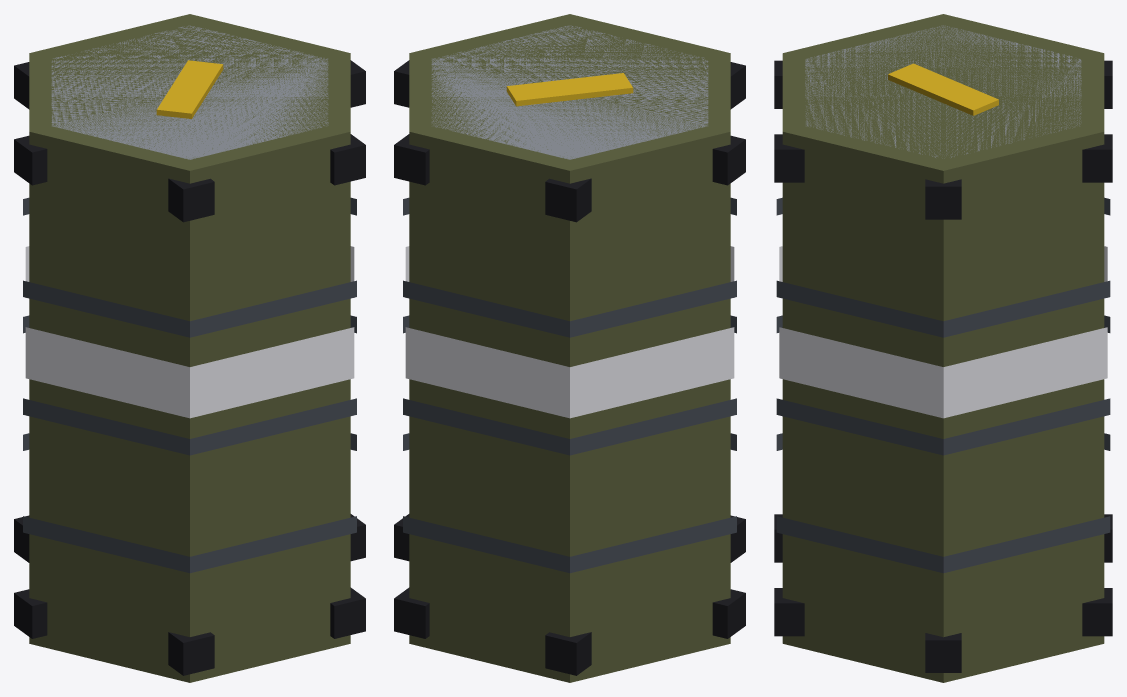
File: ship_cargo_pod.obj
3 renders of one model, left to right at view 1: azimuth 30°, elevation 25°; view 2: azimuth 150°, elevation 25°; view 3: azimuth 270°, elevation 25°, orthographic.
Visible parts, largest first — view 1: shell, door, ribs, stripe, corner_locks, door_chevron; view 2: shell, door, ribs, stripe, corner_locks, door_chevron; view 3: shell, ribs, stripe, door, corner_locks, door_chevron.
Part boxes in pixels (x1,y1,x2,y2): shell: (29, 14, 350, 682); door: (51, 25, 328, 159); ribs: (23, 197, 356, 573); stripe: (25, 246, 354, 418); corner_locks: (14, 60, 365, 675); door_chevron: (156, 60, 223, 118); shell: (409, 14, 730, 682); door: (431, 25, 708, 159); ribs: (403, 197, 736, 573); stripe: (405, 246, 734, 418); corner_locks: (394, 60, 745, 675); door_chevron: (506, 73, 633, 106); shell: (782, 14, 1104, 682); ribs: (776, 197, 1110, 573); stripe: (779, 246, 1107, 418); door: (805, 25, 1081, 158); corner_locks: (774, 60, 1112, 672); door_chevron: (888, 63, 998, 115).
Size of the model in its own units: 1.91 by 2.83 by 1.68.
